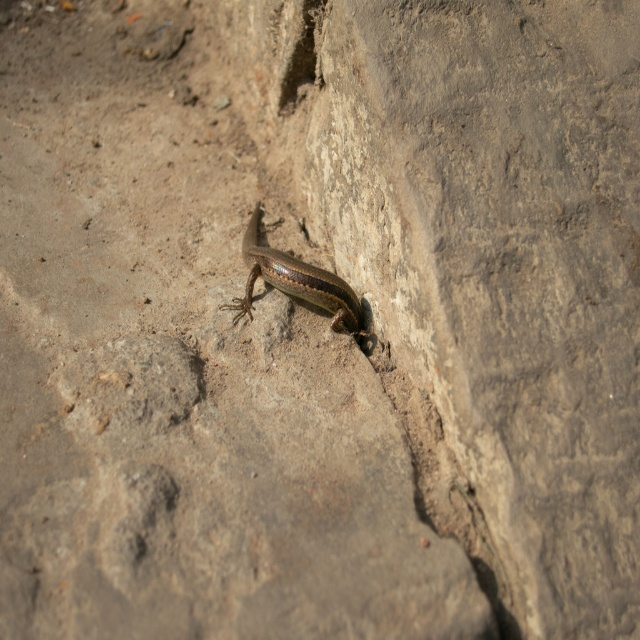Lizard: (232, 214, 377, 352)
